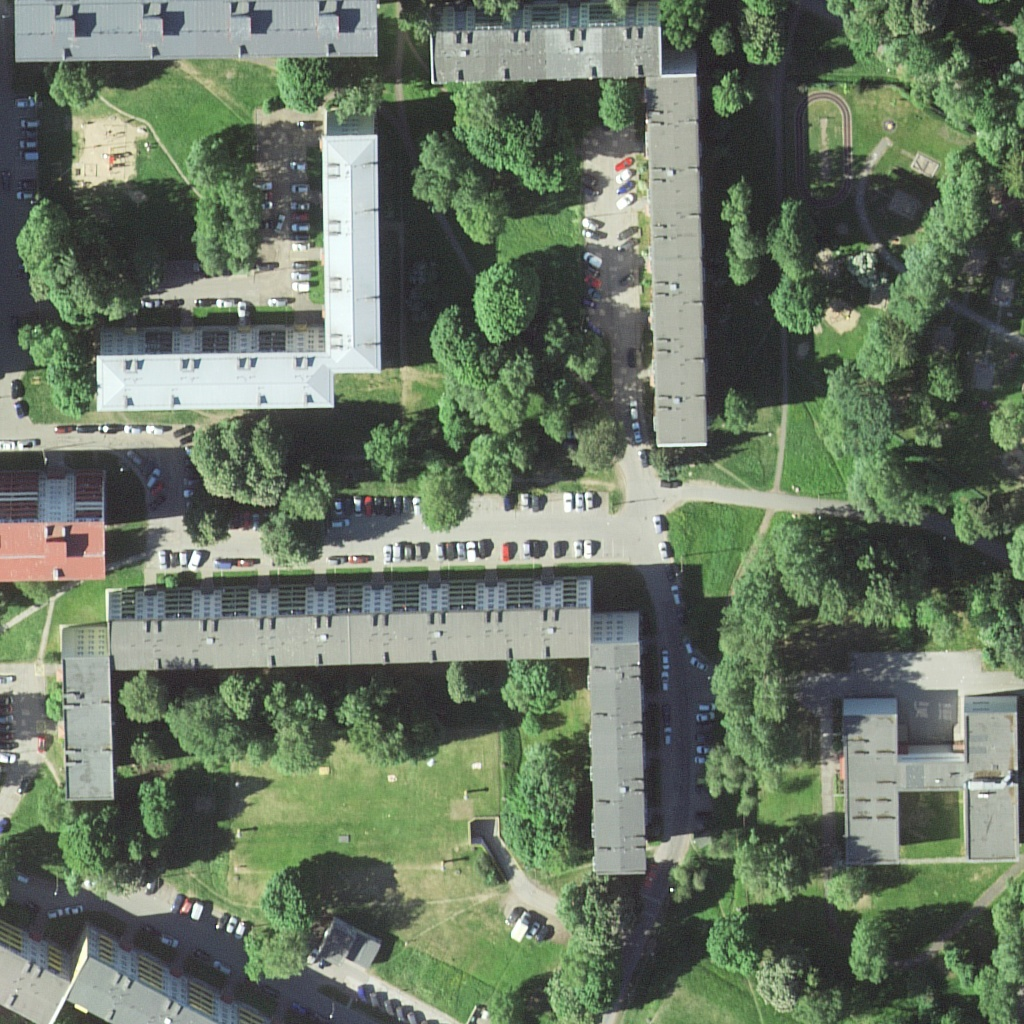building: (110, 572, 589, 676), (644, 50, 712, 451), (14, 1, 390, 66), (96, 326, 337, 413), (324, 98, 389, 376), (429, 8, 667, 77), (70, 931, 245, 1024), (589, 606, 649, 876), (1, 470, 111, 579), (57, 625, 117, 801), (841, 696, 898, 869), (964, 698, 1024, 860), (5, 904, 72, 1024)
